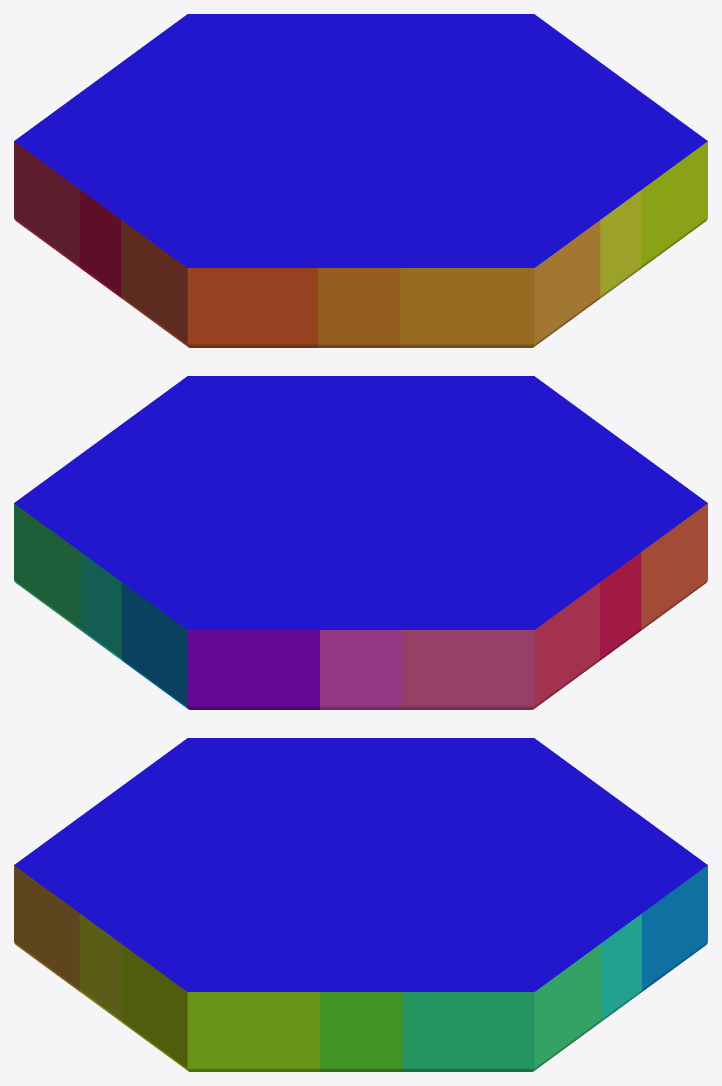
The model's file is Hex Tiles.fbx.
The picture shows the model from 3 angles, top to bottom: view 1: azimuth 30°, elevation 25°; view 2: azimuth 150°, elevation 25°; view 3: azimuth 270°, elevation 25°; orthographic projection.
Visible parts, largest first — view 1: Cylinder.005; view 2: Cylinder.005; view 3: Cylinder.005.
Part boxes in pixels (x1,y1,x2,y2): Cylinder.005: (14, 14, 707, 347); Cylinder.005: (14, 376, 707, 709); Cylinder.005: (14, 738, 707, 1071).
Bounding box in the file's own units: 115 × 100 × 15.
